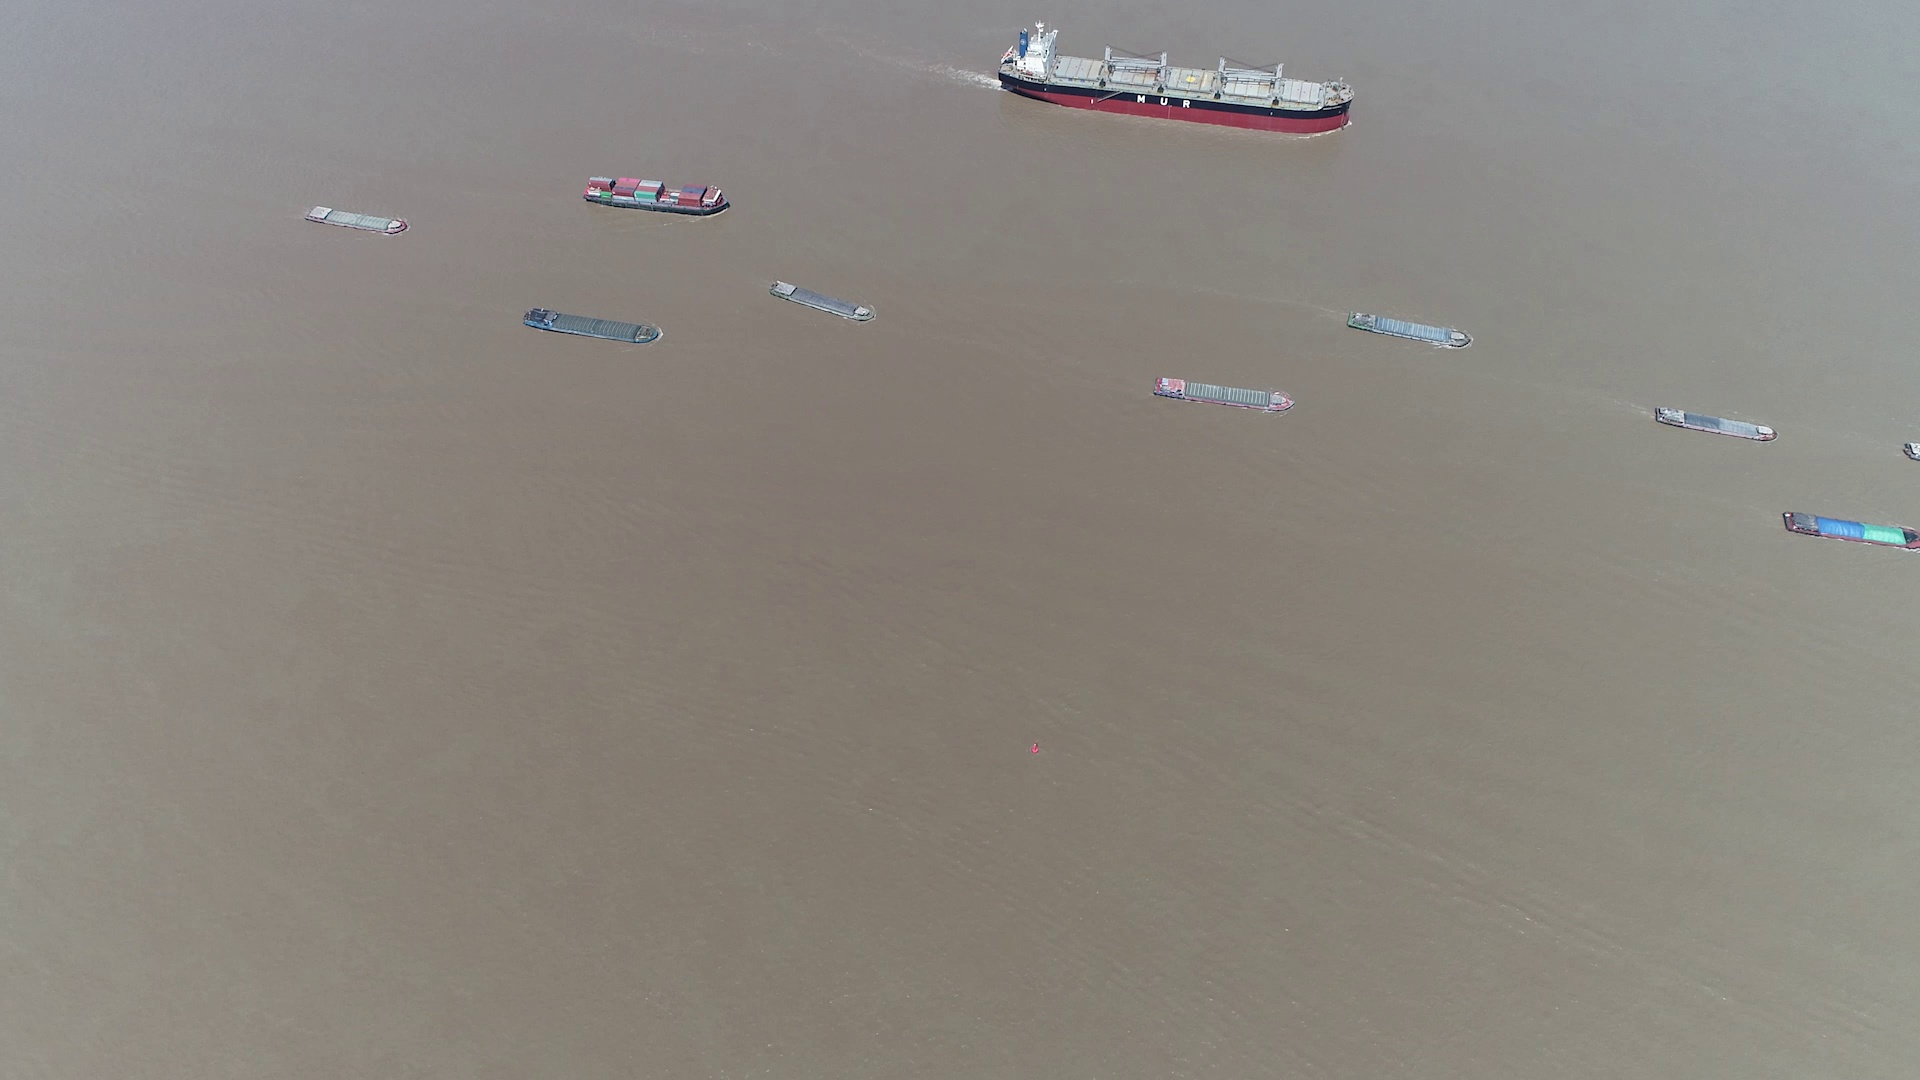ship: (1000, 29, 1356, 135), (585, 175, 729, 215), (1782, 510, 1920, 551), (522, 309, 659, 345), (1153, 377, 1294, 413), (1346, 309, 1469, 349), (1654, 405, 1778, 442), (770, 282, 876, 323), (305, 204, 407, 235)
